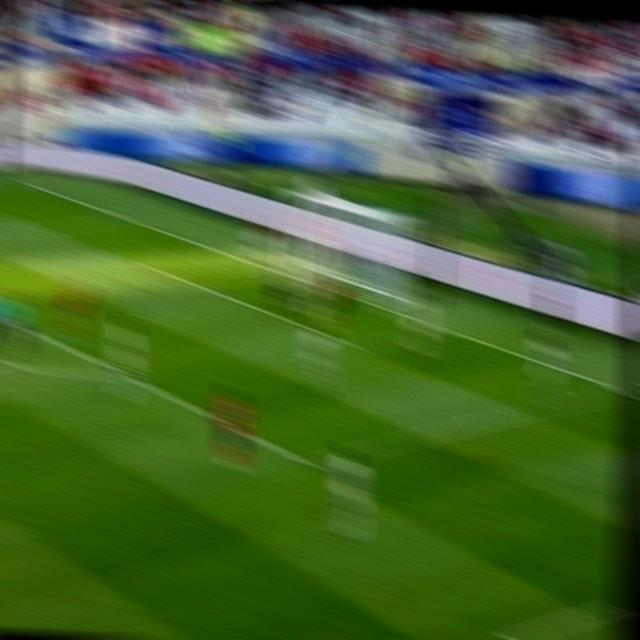bigarea_bottom_inner: (290, 447, 324, 477)
bigarea_bottom_outter: (606, 375, 636, 402)
bigarea_top_outter: (112, 208, 139, 228)
bottom_arc_area_intersection: (109, 362, 137, 387)
corner: (3, 170, 34, 188)
smallarea_bottom_inner: (342, 332, 371, 358)
smallarea_bottom_outter: (427, 314, 457, 339)
smallarea_top_inner: (135, 253, 164, 275)
smallarea_top_outter: (214, 242, 241, 264)
